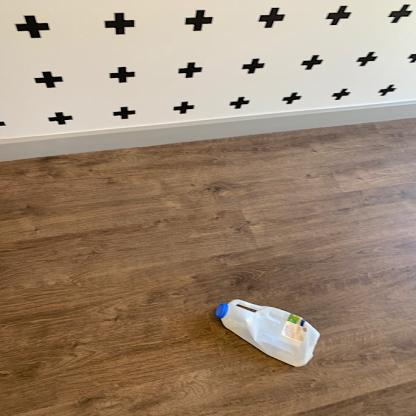trash: (213, 300, 323, 370)
